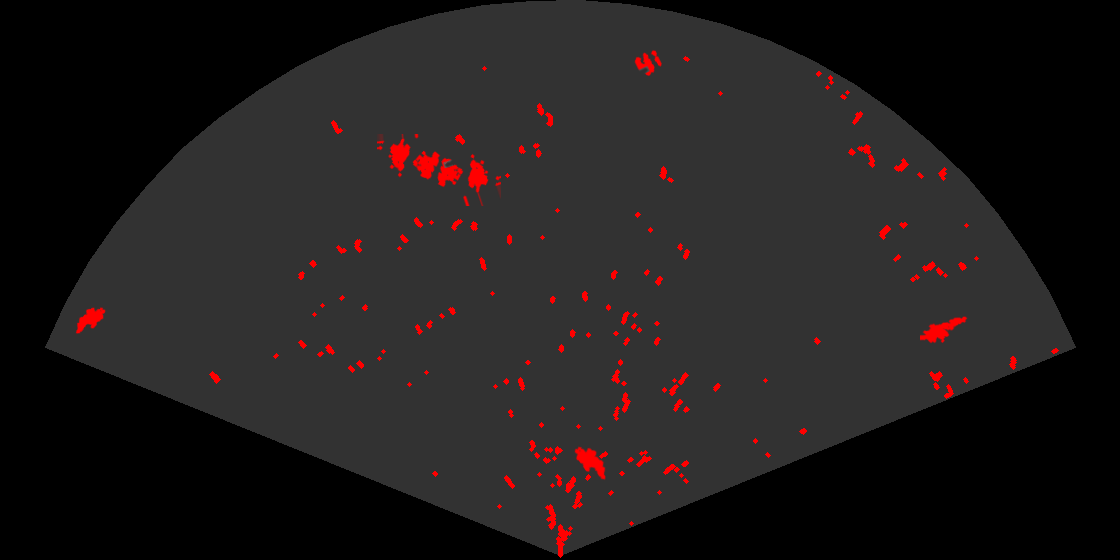AUV: (573, 445, 607, 482), (74, 306, 107, 336)
ball: (633, 49, 663, 78)
cage: (436, 152, 501, 206), (377, 134, 442, 181)
frogman: (920, 315, 968, 345)
